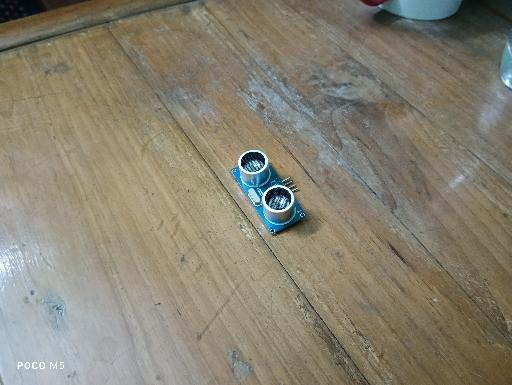sensor: (230, 149, 307, 236)
